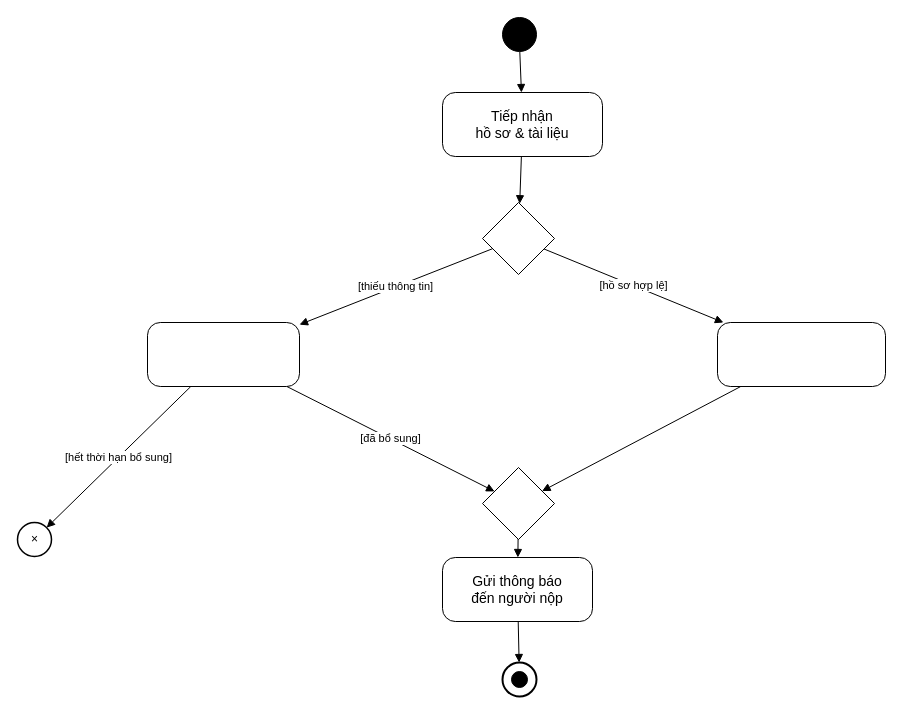
Image size: 904x715. Some labels were removed from this diagram. The centre of each missing label's shape, as x and y in pixels:
Phê duyệt & phát hành kết quả: the point at 801,354
Yêu cầu bổ sung «thiếu giấy tờ»: the point at 223,354
